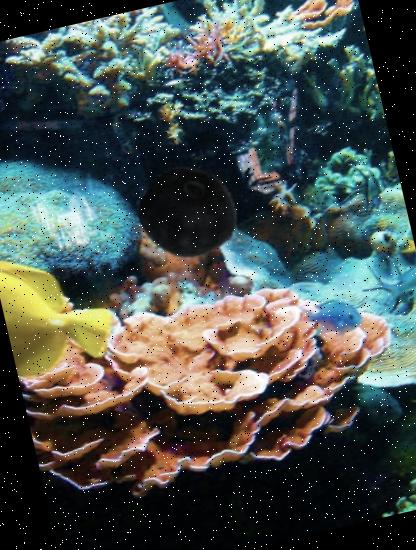Blueberry: (132, 155, 248, 271)
